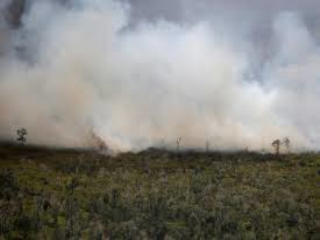smoke: (3, 16, 316, 156)
